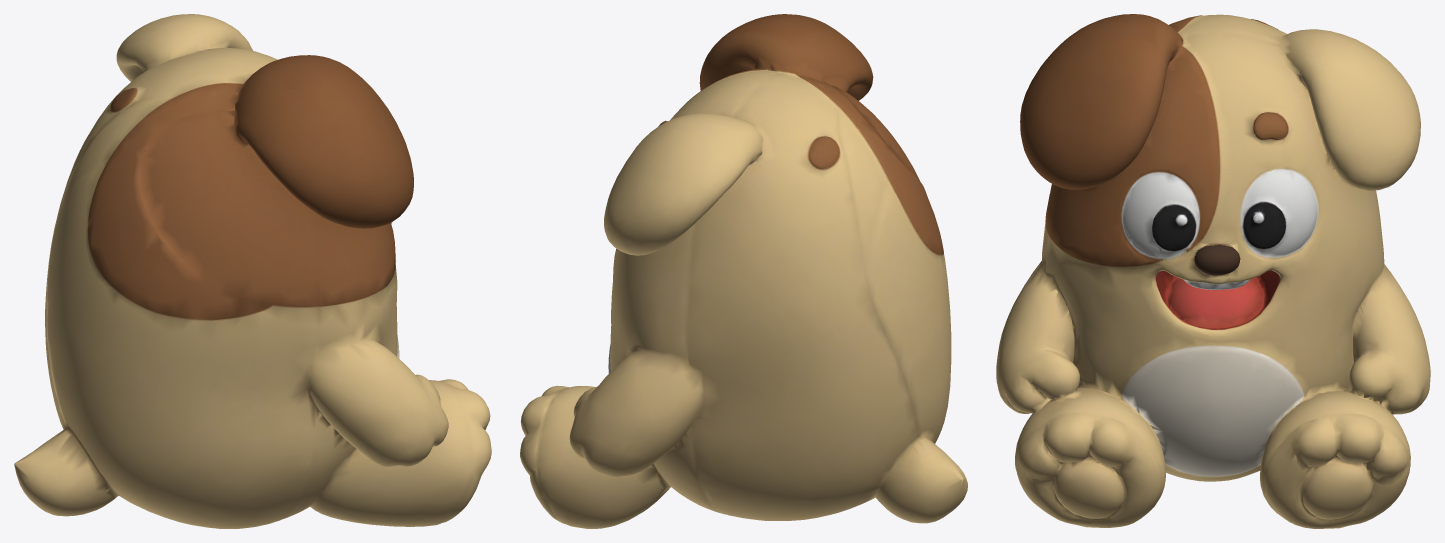
File: dog-plush.glb
3 renders of one model, left to right at view 1: azimuth 30°, elevation 25°; view 2: azimuth 150°, elevation 25°; view 3: azimuth 270°, elevation 25°, orthographic. The views are drawn at different scales.
Parts seen in each view (by area): view 1: tripo_node_e5d4a3c8-a4f6-40dd-be93-f126e385cf83; view 2: tripo_node_e5d4a3c8-a4f6-40dd-be93-f126e385cf83; view 3: tripo_node_e5d4a3c8-a4f6-40dd-be93-f126e385cf83.
Part boxes in pixels (bbox=[...]): tripo_node_e5d4a3c8-a4f6-40dd-be93-f126e385cf83: bbox=[14, 14, 491, 528]; tripo_node_e5d4a3c8-a4f6-40dd-be93-f126e385cf83: bbox=[520, 14, 967, 528]; tripo_node_e5d4a3c8-a4f6-40dd-be93-f126e385cf83: bbox=[996, 14, 1430, 528].
Bounding box in the file's own units: 0.8748 × 1 × 0.8584.
Materials: 1 (1 with a texture image).
